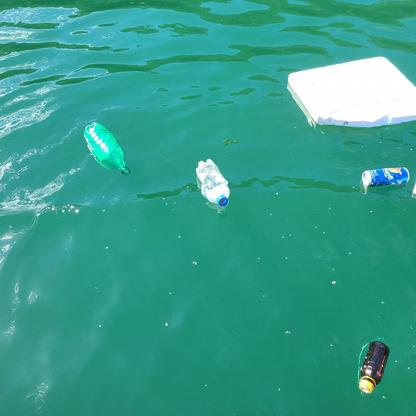can: (361, 165, 409, 187)
foam: (288, 55, 416, 129)
plastic bottle: (80, 120, 129, 175), (196, 161, 229, 208)
